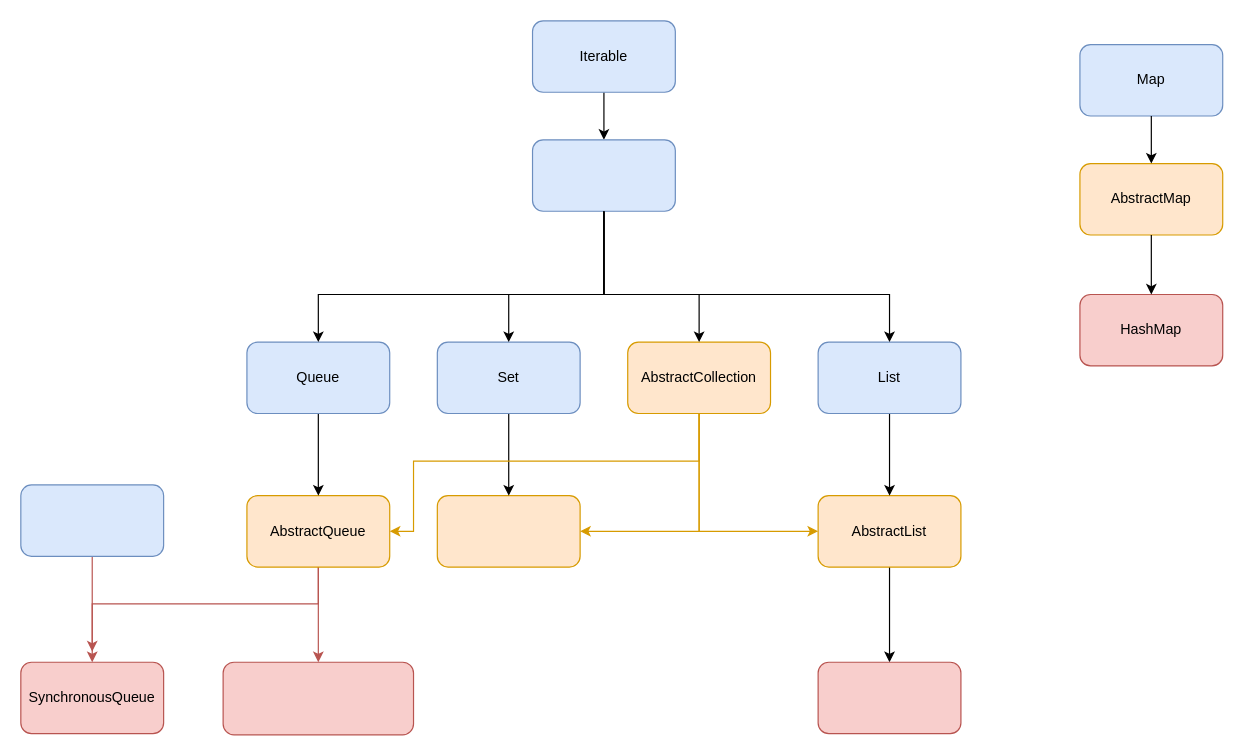
Some shapes in this 1244 by 756 pixel diagram are drawn without their labels. The centre of each missing label's shape, as x and y in pixels:
"AbstractSet" goes at pixel 508 530.
"ArrayList" goes at pixel 889 697.
"BlockingQueue" goes at pixel 92 520.
"Collections" goes at pixel 603 175.
"ConcurrentLinkedQueue" goes at pixel 318 698.
